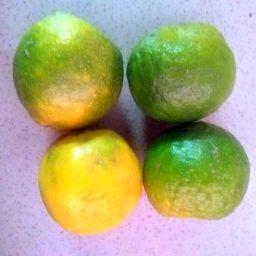orange: (12, 10, 125, 132), (37, 129, 144, 236), (127, 23, 236, 124), (142, 121, 251, 221)
